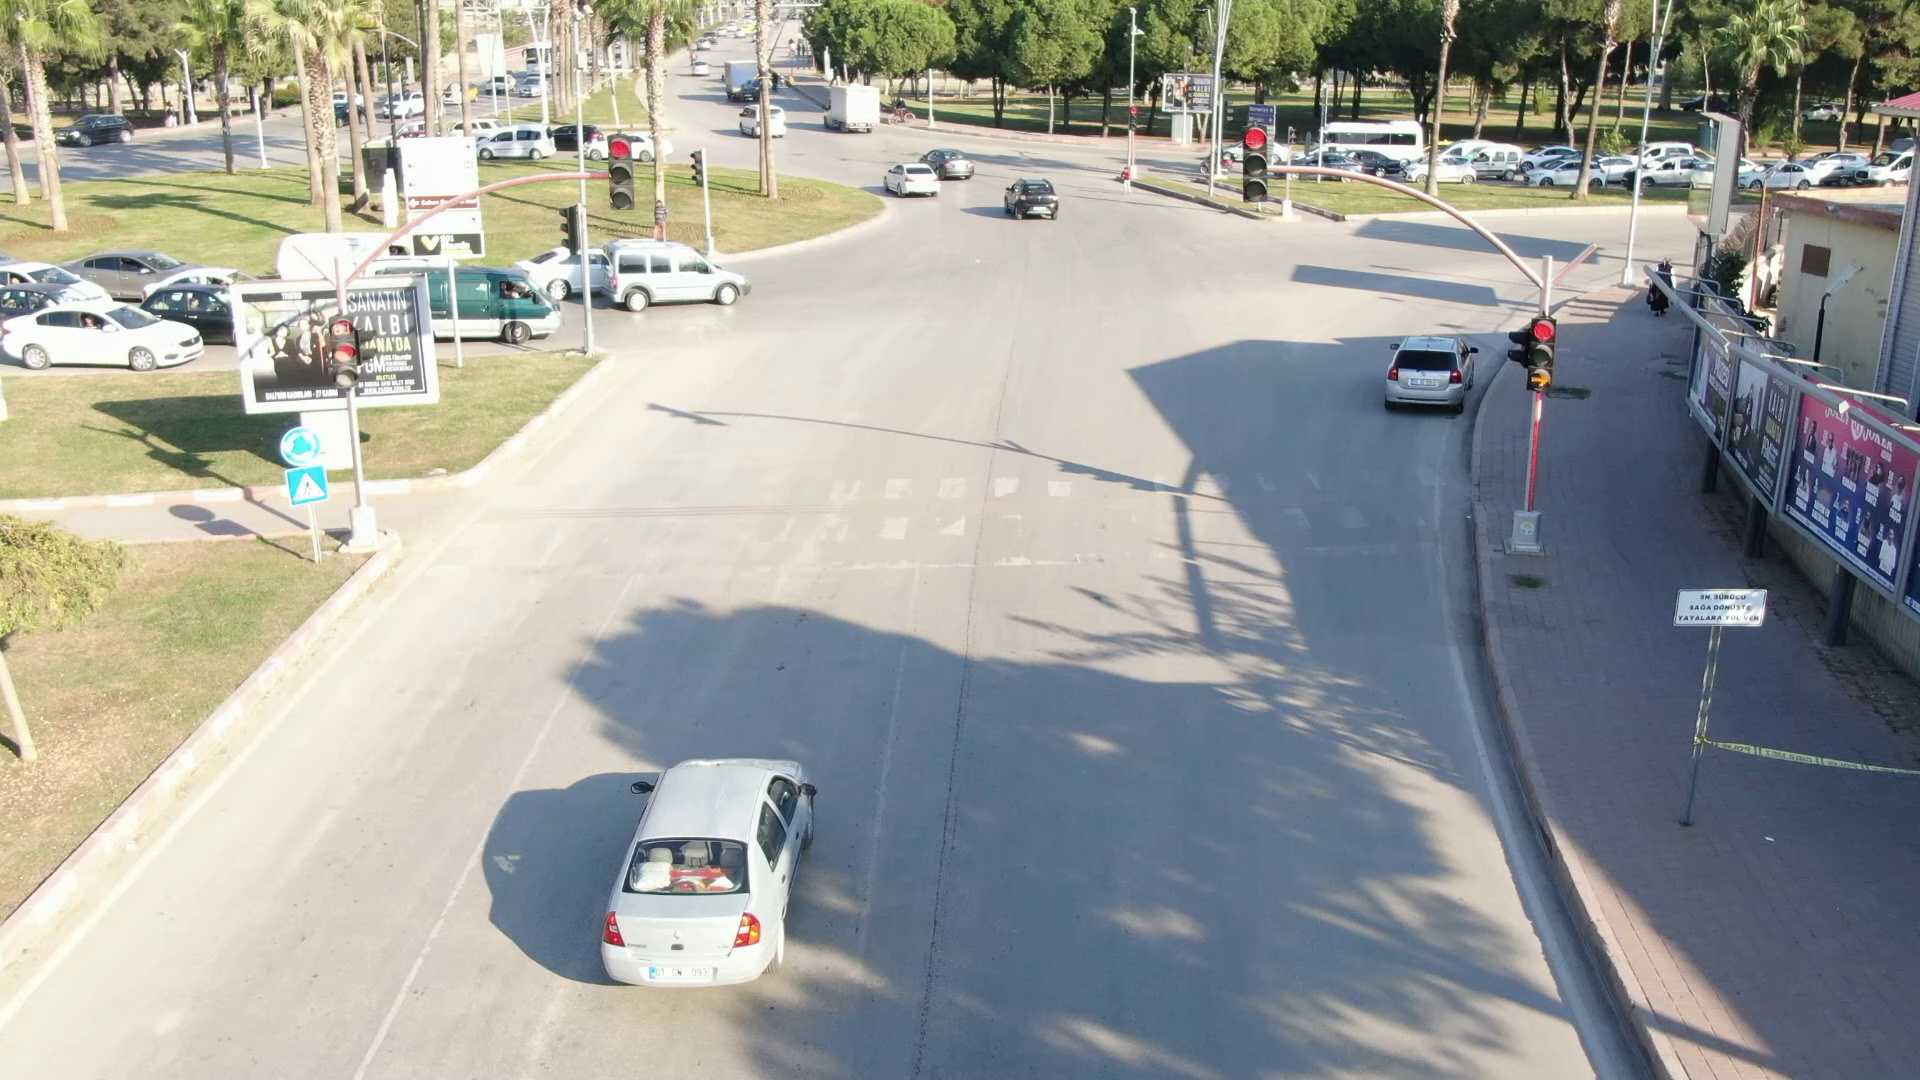car: (564, 721, 889, 997), (591, 225, 778, 331), (1356, 305, 1486, 421), (990, 171, 1069, 233), (870, 152, 942, 200)
